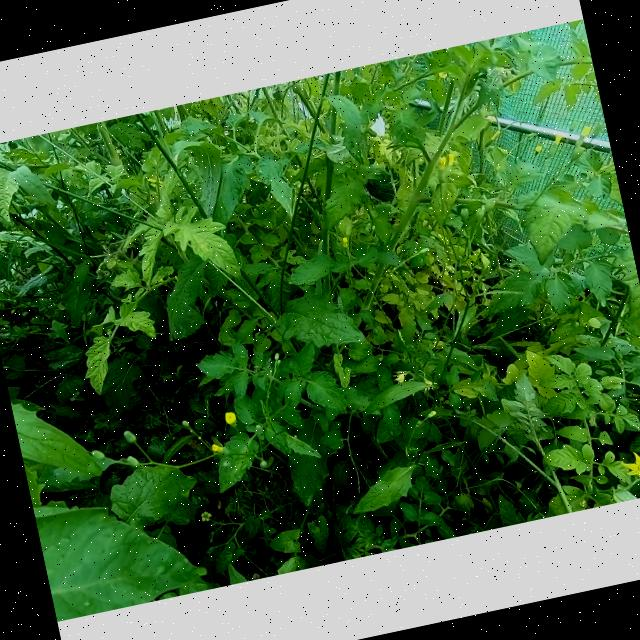Flowers: (616, 445, 640, 487), (435, 153, 457, 175), (417, 370, 437, 392), (210, 441, 231, 456), (390, 369, 410, 384), (224, 410, 238, 430), (576, 124, 592, 140), (198, 509, 214, 523), (530, 144, 545, 158), (552, 132, 564, 148)
